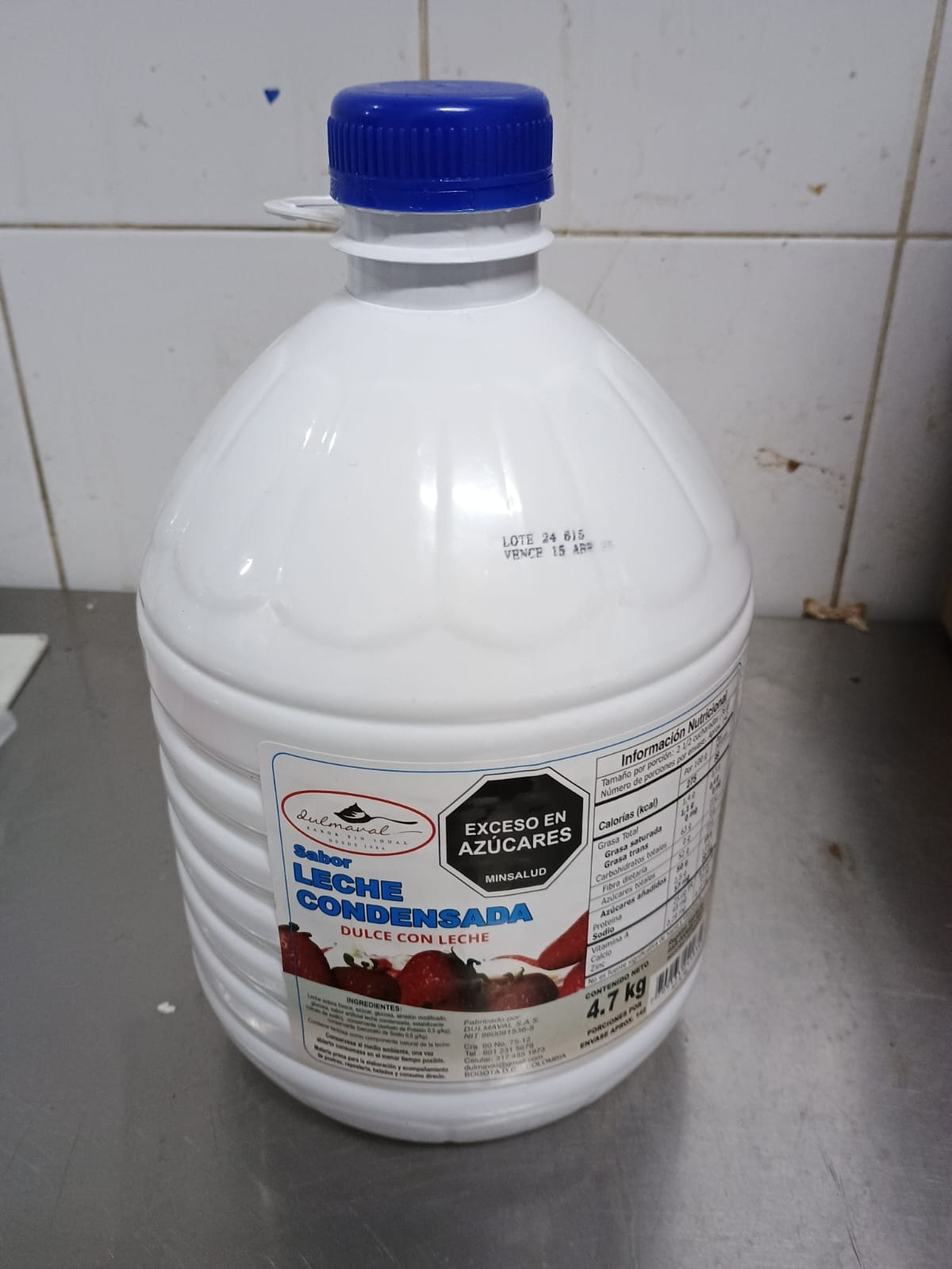Plastico: (142, 80, 756, 1145)
